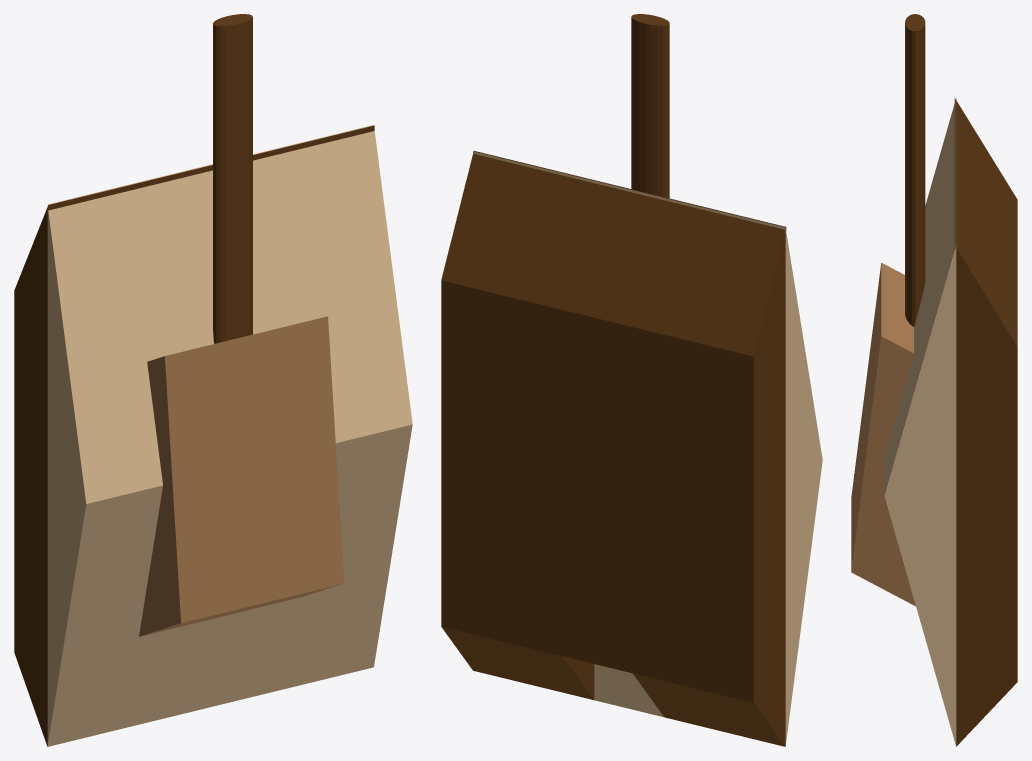
Rendered from merkava.obj.
3 views of the same model, side by side, from view 1: azimuth 30°, elevation 25°; view 2: azimuth 150°, elevation 25°; view 3: azimuth 270°, elevation 25° (orthographic). The views are drawn at different scales.
Parts seen in each view (by area): view 1: group_0_14860437, group_0_11107152, group_0_6306067; view 2: group_0_6306067, group_0_14860437; view 3: group_0_6306067, group_0_14860437, group_0_11107152.
Part boxes in pixels (<box>): group_0_14860437: <box>47,125,412,746</box>; group_0_11107152: <box>139,316,344,636</box>; group_0_6306067: <box>14,14,374,746</box>; group_0_6306067: <box>441,14,786,746</box>; group_0_14860437: <box>473,151,822,744</box>; group_0_6306067: <box>905,14,1017,746</box>; group_0_14860437: <box>884,98,956,746</box>; group_0_11107152: <box>851,262,915,606</box>.
Size of the model in its own units: 34 by 70 by 16.24.
